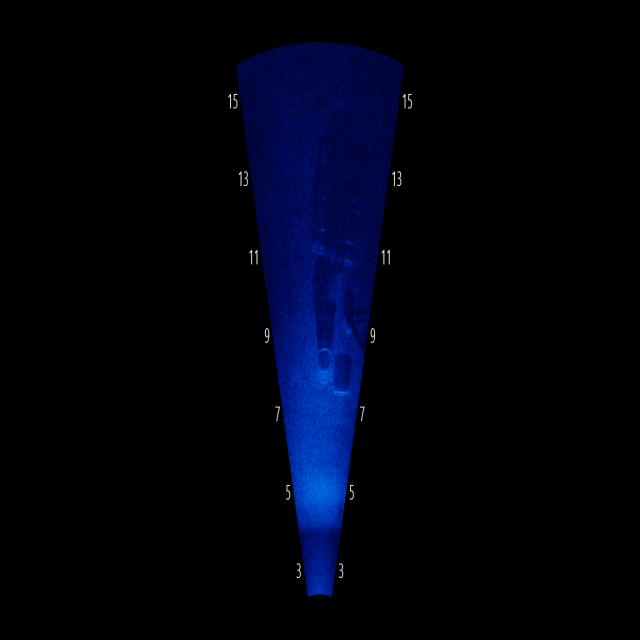circle: (313, 321, 334, 396)
